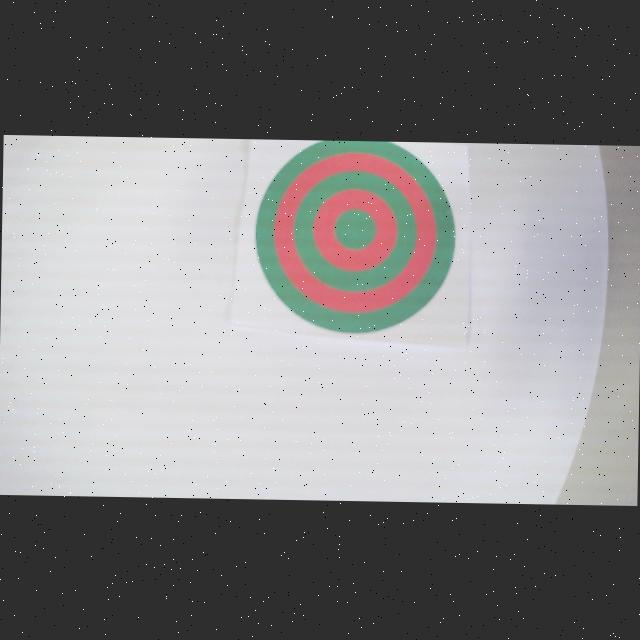COGNITIVE: (254, 139, 457, 334)
